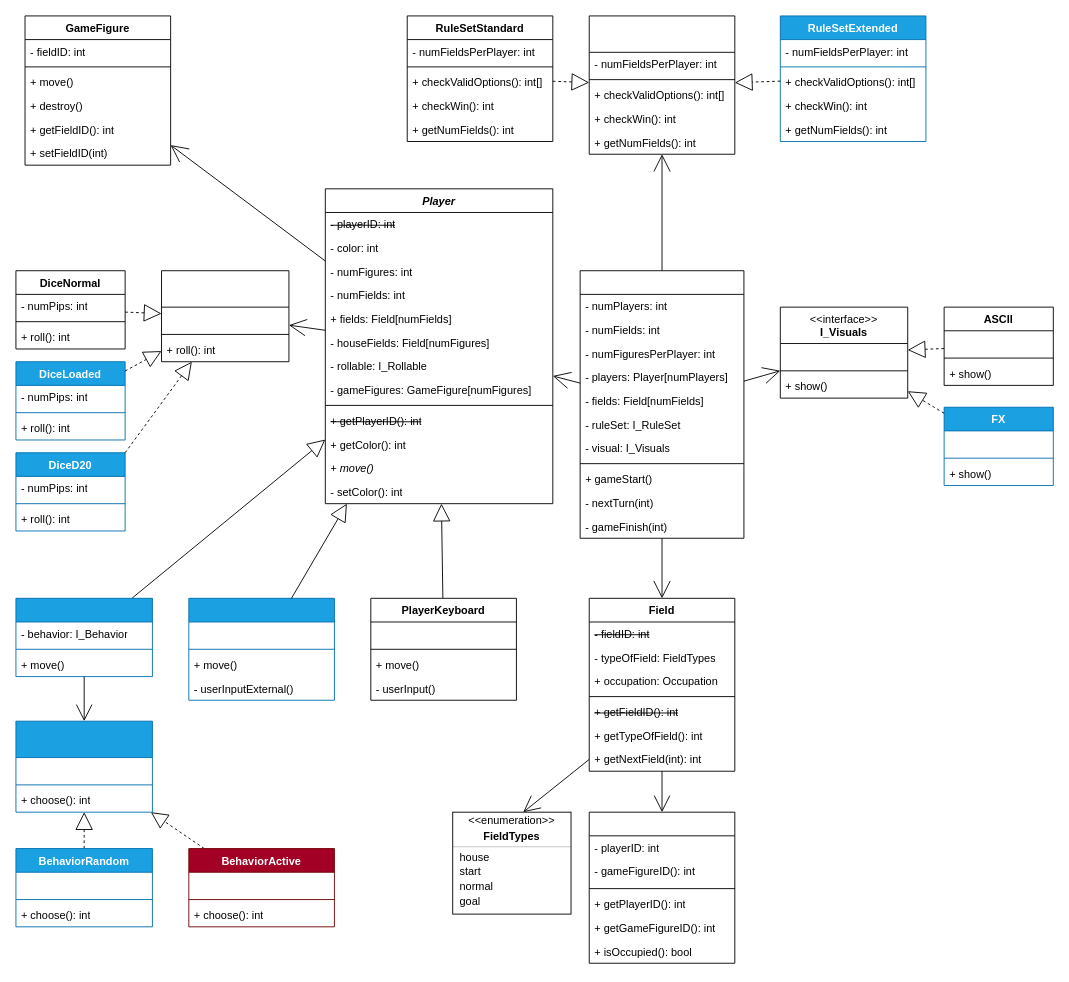
Image size: 1069x982. Some labels were removed from this diagram. The box of each missing label's shape, as (x1, y1, x2, y2) in pixels:
<<interface>> I_Behavior: (15, 720, 152, 812)
<<interface>> I_Rollable: (161, 270, 289, 362)
<<interface>> I_RuleSet: (588, 15, 735, 154)
GameManager: (579, 270, 744, 538)
NPC: (15, 597, 152, 677)
Occupation: (588, 811, 735, 963)
PlayerMicrocontroller: (188, 597, 334, 700)
